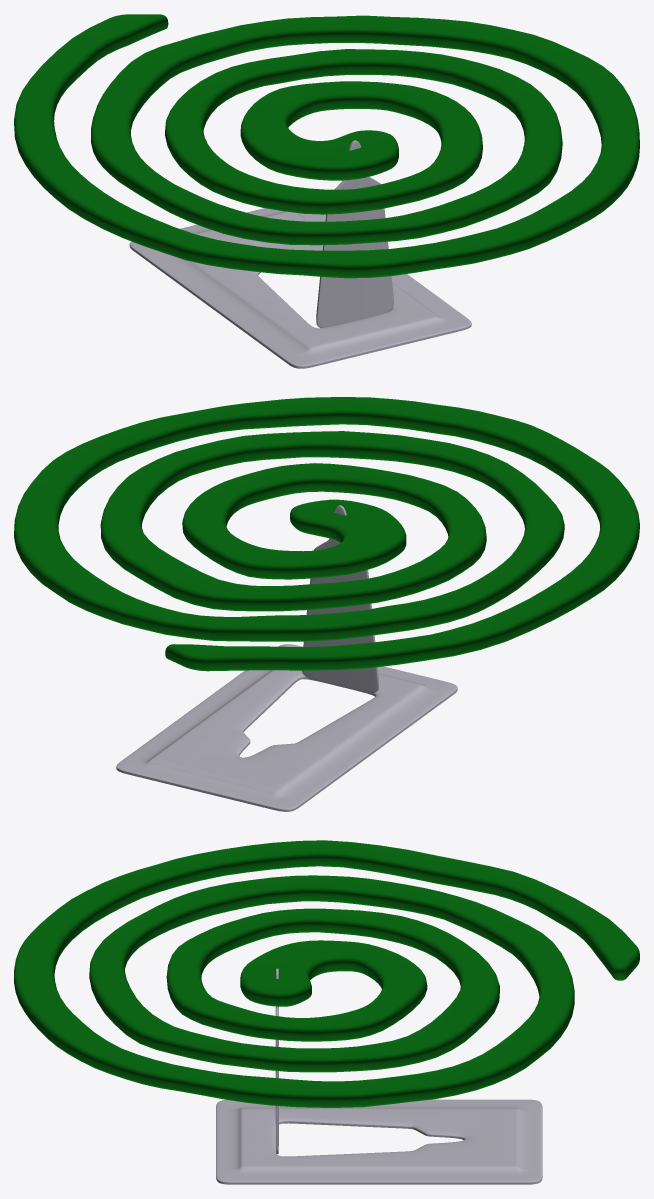
The model's file is coil.glb.
The picture shows the model from 3 angles, top to bottom: view 1: azimuth 30°, elevation 25°; view 2: azimuth 150°, elevation 25°; view 3: azimuth 270°, elevation 25°; orthographic projection. The views are drawn at different scales.
Parts seen in each view (by area): view 1: coil; view 2: coil; view 3: coil.
Part boxes in pixels (x1,y1,x2,y2): coil: (14,14,639,368); coil: (14,397,639,811); coil: (14,840,639,1184).
Bounding box in the file's own units: 0.3073 × 0.101 × 0.3226.
Materials: 1 (1 with a texture image).
